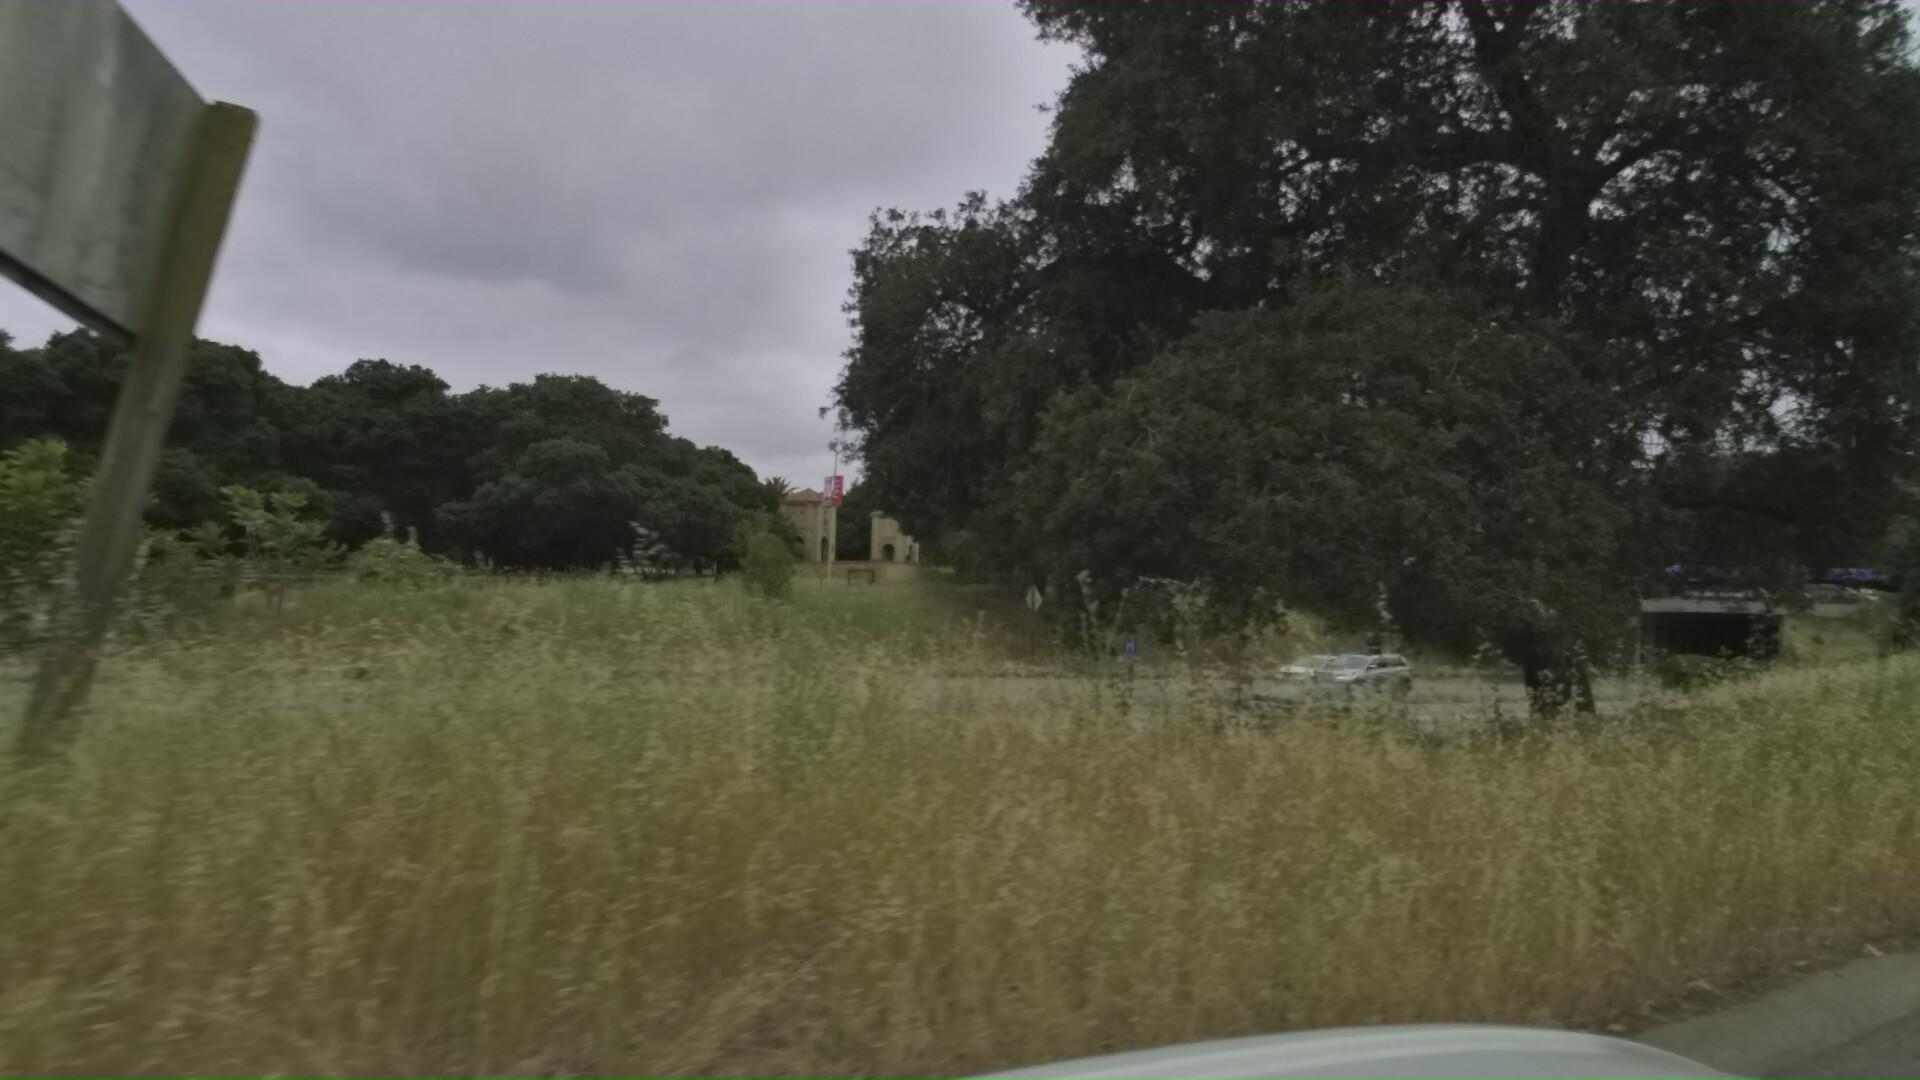car: (1265, 626, 1391, 686)
